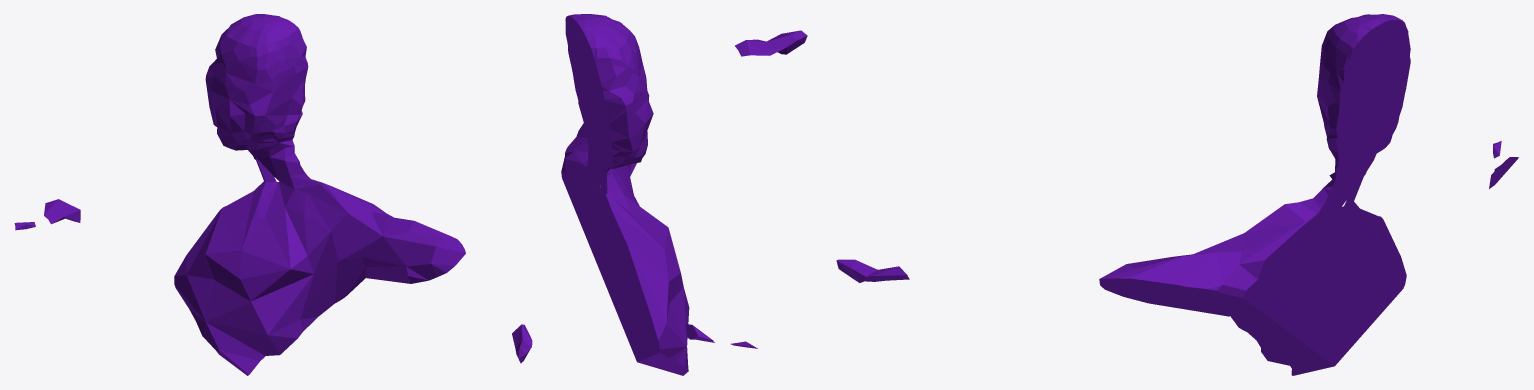
Rendered from TheMan_1_chunks.fbx.
3 renders of one model, left to right at view 1: azimuth 30°, elevation 25°; view 2: azimuth 150°, elevation 25°; view 3: azimuth 270°, elevation 25°, orthographic. The views are drawn at different scales.
Visible parts, largest first — view 1: TheMan_1_0, TheMan_1_1, TheMan_1_2, TheMan_1_3, TheMan_1_6, TheMan_1_5, TheMan_1_8, TheMan_1_9, TheMan_1_4, TheMan_1_10, TheMan_1_14, TheMan_1_7 (+2 smaller); view 2: TheMan_1_6, TheMan_1_5, TheMan_1_0, TheMan_1_8, TheMan_1_10, TheMan_1_1, TheMan_1_9, TheMan_1_15, TheMan_1_4, TheMan_1_3, TheMan_1_7, TheMan_1_2 (+1 smaller); view 3: TheMan_1_10, TheMan_1_8, TheMan_1_0, TheMan_1_5, TheMan_1_6, TheMan_1_9, TheMan_1_3, TheMan_1_2, TheMan_1_15.
Part boxes in pixels (x1,y1,x2,y2): TheMan_1_0: [219, 14, 308, 139]; TheMan_1_1: [198, 218, 305, 345]; TheMan_1_2: [210, 244, 400, 375]; TheMan_1_3: [269, 210, 462, 279]; TheMan_1_6: [205, 40, 280, 164]; TheMan_1_5: [174, 156, 266, 325]; TheMan_1_8: [257, 184, 322, 218]; TheMan_1_9: [259, 131, 322, 192]; TheMan_1_4: [196, 213, 257, 320]; TheMan_1_10: [318, 183, 413, 286]; TheMan_1_14: [398, 248, 451, 283]; TheMan_1_7: [14, 199, 80, 230]; TheMan_1_6: [589, 65, 653, 174]; TheMan_1_5: [601, 172, 679, 363]; TheMan_1_0: [565, 14, 649, 124]; TheMan_1_8: [590, 168, 650, 364]; TheMan_1_10: [561, 123, 619, 268]; TheMan_1_1: [633, 207, 689, 368]; TheMan_1_9: [582, 120, 614, 214]; TheMan_1_15: [735, 30, 807, 56]; TheMan_1_4: [633, 218, 681, 354]; TheMan_1_3: [618, 163, 640, 212]; TheMan_1_7: [685, 324, 757, 348]; TheMan_1_2: [644, 359, 688, 375]; TheMan_1_10: [1150, 213, 1312, 332]; TheMan_1_8: [1256, 216, 1365, 367]; TheMan_1_0: [1317, 14, 1408, 150]; TheMan_1_5: [1355, 171, 1406, 330]; TheMan_1_6: [1352, 37, 1410, 180]; TheMan_1_9: [1301, 143, 1357, 242]; TheMan_1_3: [1115, 230, 1248, 304]; TheMan_1_2: [1167, 303, 1327, 375]; TheMan_1_15: [836, 259, 909, 279].
Size of the model in its own units: 846 by 891 by 1430.
